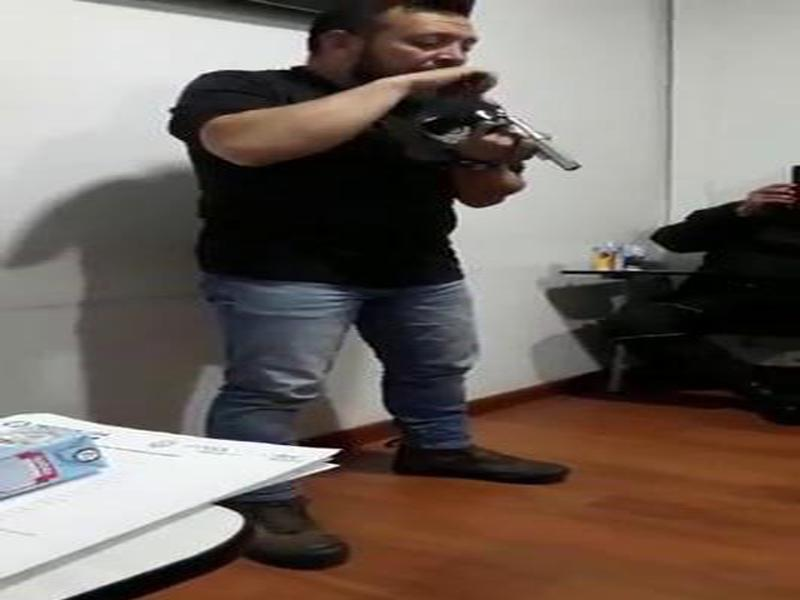Revolver: (457, 84, 605, 214)
